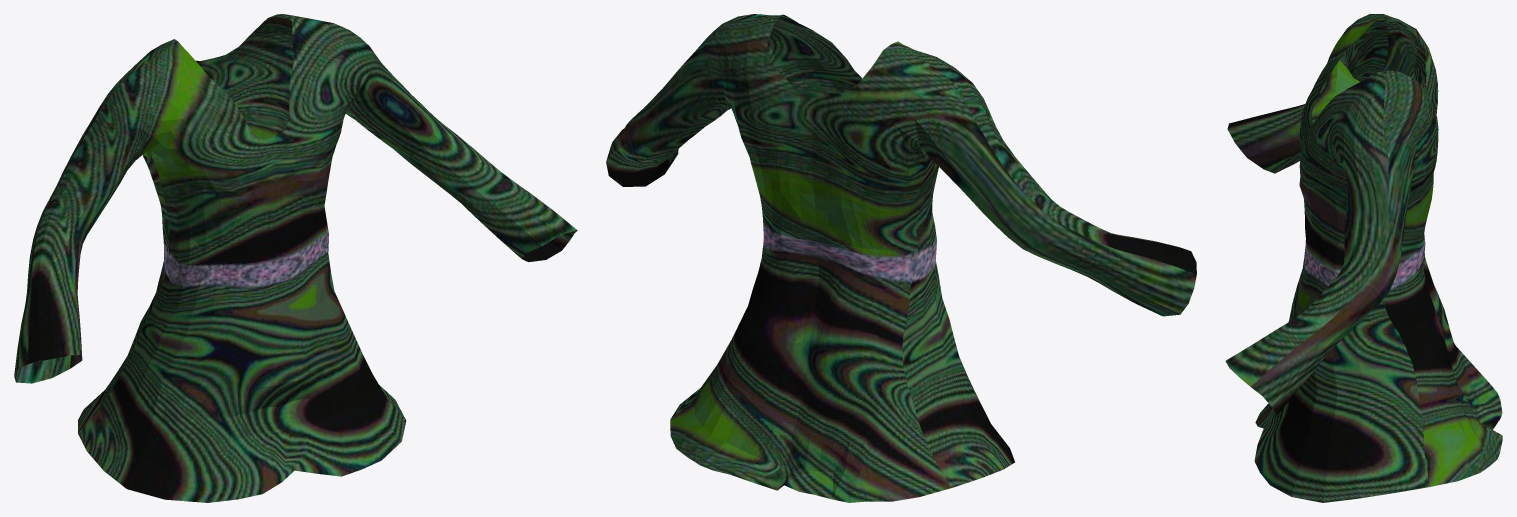
Rendered from mhw_elvs_simple_60s_dress.glb.
3 views of the same model, side by side, from view 1: azimuth 30°, elevation 25°; view 2: azimuth 150°, elevation 25°; view 3: azimuth 270°, elevation 25° (orthographic). The views are drawn at different scales.
Parts seen in each view (by area): view 1: mhw_elvs_simple_60s_dress; view 2: mhw_elvs_simple_60s_dress; view 3: mhw_elvs_simple_60s_dress.
Part boxes in pixels (x1,y1,x2,y2): mhw_elvs_simple_60s_dress: (14,14,577,502); mhw_elvs_simple_60s_dress: (606,14,1196,502); mhw_elvs_simple_60s_dress: (1225,14,1502,502).
Size of the model in its own units: 1.15 by 0.8089 by 0.5102.
Materials: 1 (1 with a texture image).
